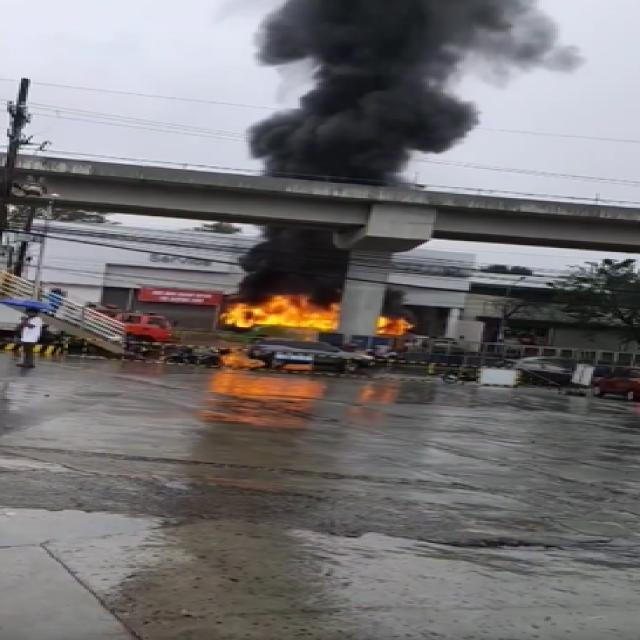Fire: (225, 285, 401, 334)
Smoke: (269, 0, 542, 162), (248, 227, 336, 298)
